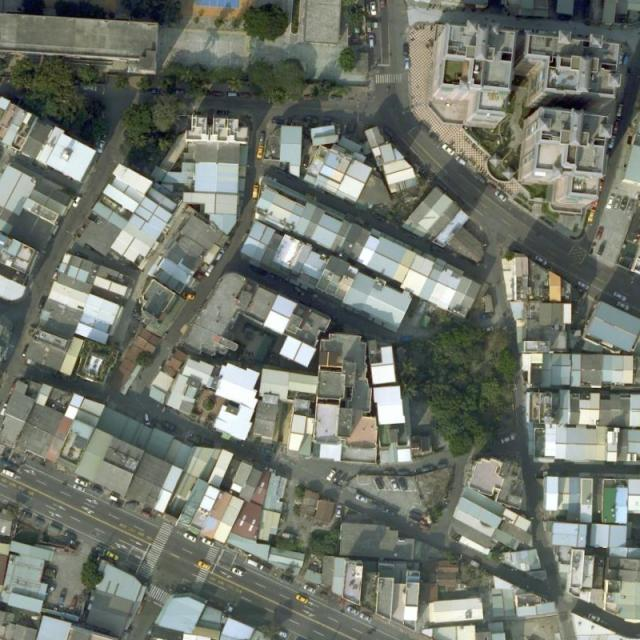vehicle: (494, 188, 509, 203), (345, 604, 361, 618), (441, 142, 456, 156), (4, 459, 19, 473), (500, 433, 517, 445), (162, 419, 177, 432), (2, 467, 17, 480), (533, 254, 549, 266), (294, 594, 310, 606), (302, 582, 318, 594), (33, 516, 49, 528), (454, 155, 468, 168), (325, 468, 338, 482), (89, 483, 103, 496), (354, 492, 369, 504), (197, 559, 212, 571), (279, 574, 294, 586), (65, 530, 80, 542), (231, 566, 246, 578), (586, 614, 602, 625), (182, 532, 198, 543), (72, 482, 88, 493), (473, 171, 486, 184), (382, 126, 395, 139), (214, 248, 226, 262), (202, 535, 216, 547), (107, 550, 121, 562), (75, 476, 90, 487), (605, 195, 616, 210), (270, 116, 286, 126), (202, 436, 215, 448), (182, 291, 196, 302), (359, 613, 373, 624), (382, 507, 397, 517), (59, 588, 69, 603), (608, 134, 618, 149), (616, 302, 631, 312), (613, 118, 622, 134), (626, 198, 635, 214), (97, 140, 106, 156), (19, 509, 32, 520), (206, 263, 216, 277), (613, 292, 627, 302), (622, 52, 632, 66), (72, 195, 82, 209), (369, 1, 378, 16), (148, 87, 163, 96), (399, 477, 408, 492), (620, 197, 629, 212), (374, 477, 384, 490), (595, 228, 605, 241), (70, 597, 80, 610), (50, 524, 63, 534), (140, 510, 153, 520), (577, 280, 590, 290), (338, 474, 348, 487), (245, 558, 258, 568), (327, 94, 343, 102), (390, 476, 399, 490), (258, 132, 267, 146), (612, 197, 621, 211), (402, 43, 410, 58), (146, 624, 156, 636), (333, 470, 343, 482), (587, 210, 596, 223), (616, 104, 625, 117), (143, 411, 151, 424), (257, 146, 265, 159), (252, 184, 259, 198), (400, 335, 414, 342), (422, 466, 434, 474), (598, 244, 606, 256), (38, 298, 46, 310), (383, 470, 396, 477), (52, 268, 59, 281), (582, 6, 590, 17), (336, 504, 342, 518), (368, 35, 374, 49), (405, 57, 411, 71), (170, 89, 184, 95), (241, 91, 252, 98), (398, 470, 410, 476), (213, 91, 224, 97), (633, 192, 640, 200), (228, 91, 238, 96), (143, 634, 150, 640), (381, 1, 386, 8)
